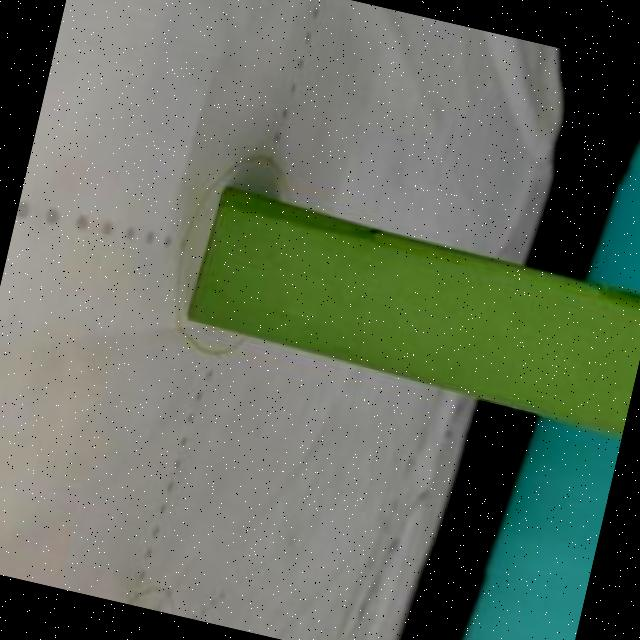greenbox: (182, 192, 640, 425)
